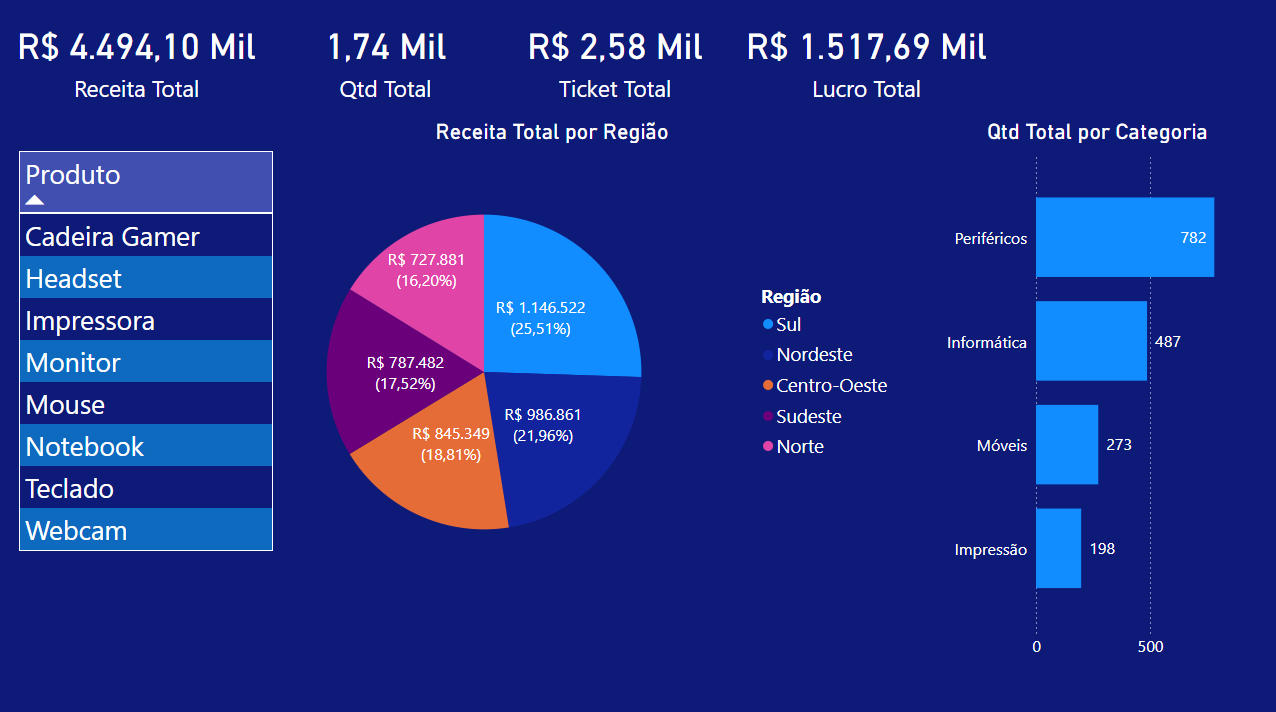

What the dashboard file says about the page in this screenshot:
{"tool":"powerbi","page":{"name":"Página 3","canvas":[1280,720],"ordinal":2},"visuals":[{"type":"card","fields":{"Values":["Medidas.Receita Total"]},"box":[0,0,274.8,122.9],"z":0},{"type":"card","fields":{"Values":["Medidas.Qtd Total"]},"box":[274.8,0,223.6,122.9],"z":1000},{"type":"card","fields":{"Values":["Medidas.Ticket Total"]},"box":[501.8,0,228.7,122.9],"z":2000},{"type":"card","fields":{"Values":["Medidas.Lucro Total"]},"box":[730.5,0,274.8,122.9],"z":3000},{"type":"pieChart","fields":{"Category":["Vendas.Região"],"Y":["Medidas.Receita Total"]},"box":[202.5,122.5,700,482.5],"z":4000},{"type":"tableEx","fields":{"Values":["Vendas.Produto"]},"box":[13.8,150,278.8,505],"z":4001},{"type":"clusteredBarChart","fields":{"Category":["Vendas.Categoria"],"Y":["Medidas.Qtd Total"]},"box":[933.8,122.5,328.8,548.8],"z":4002}]}

Visuals, with their boxes in screenshot pixels (x1, y1, x2, y2), scaled from the page's 1280x720 canvas onto the 1276x712 screenshot:
card - Medidas.Receita Total: locate(0, 0, 274, 122)
card - Medidas.Qtd Total: locate(274, 0, 497, 122)
card - Medidas.Ticket Total: locate(500, 0, 728, 122)
card - Medidas.Lucro Total: locate(728, 0, 1002, 122)
pieChart - Vendas.Região x Medidas.Receita Total: locate(202, 121, 900, 598)
tableEx - Vendas.Produto: locate(14, 148, 292, 648)
clusteredBarChart - Vendas.Categoria x Medidas.Qtd Total: locate(931, 121, 1259, 664)
